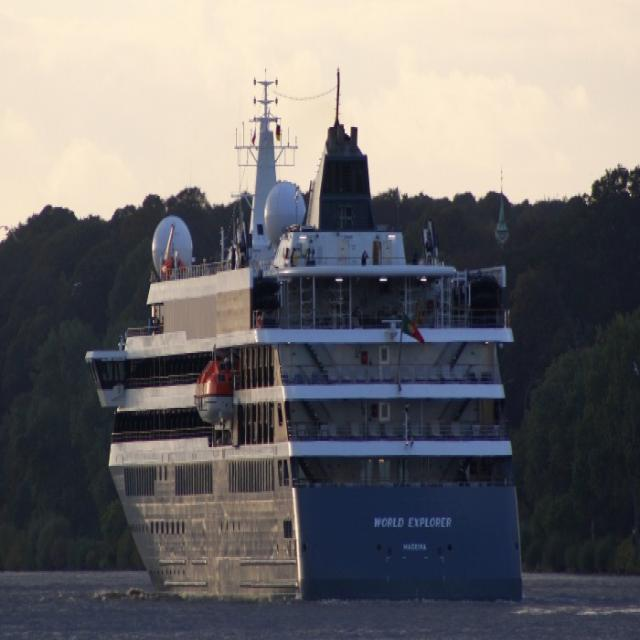cruises: (83, 54, 539, 621)
